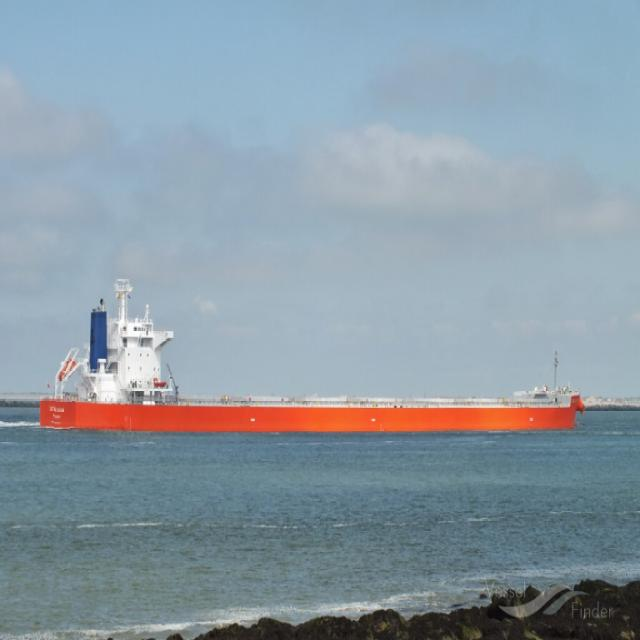OCR: (46, 399, 72, 431)
